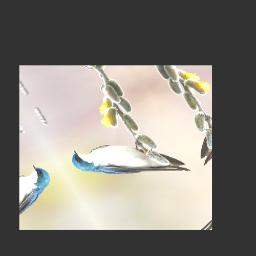Swallow: (66, 119, 192, 204)
